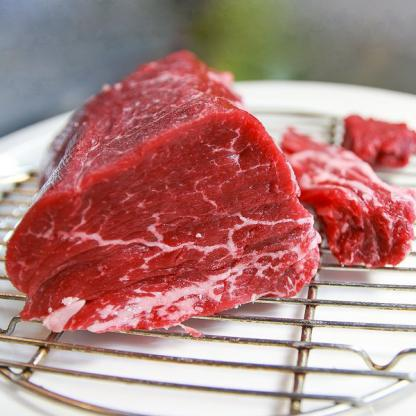beef: (7, 61, 304, 304)
